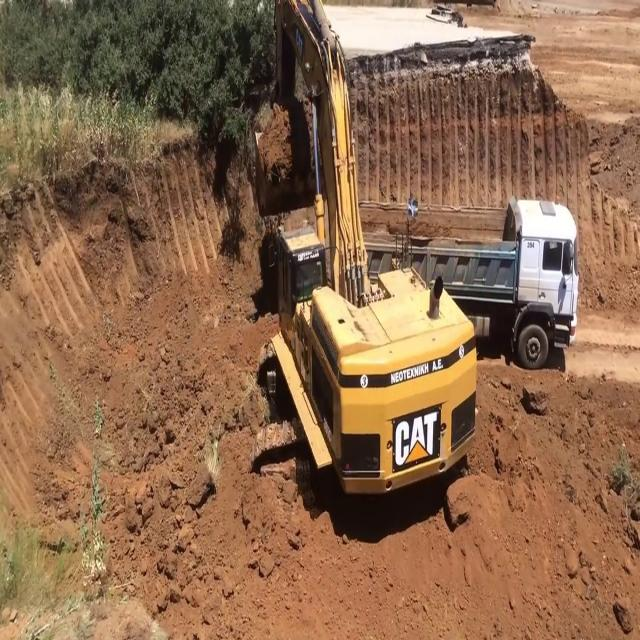excavator: (268, 9, 477, 506)
